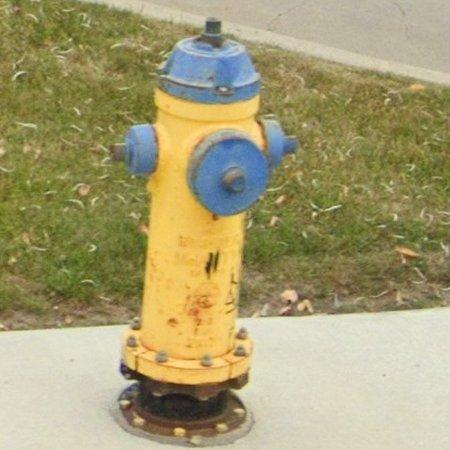a fire hydrant: (111, 19, 298, 445)
